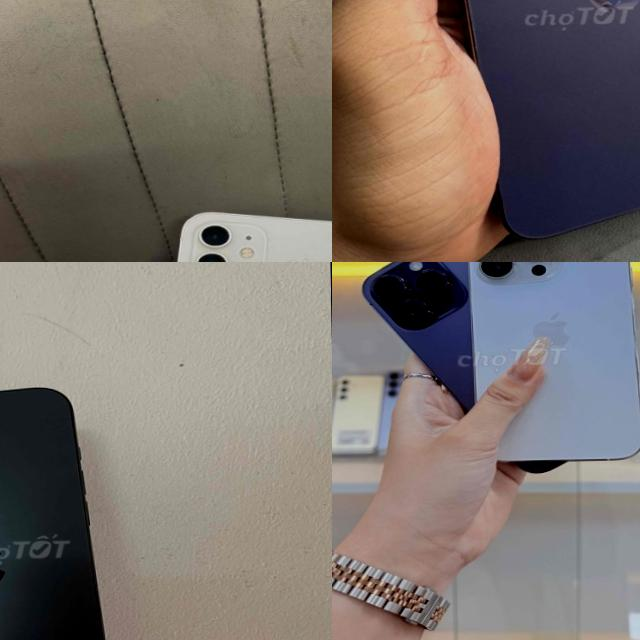gen_14: (411, 0, 640, 255), (464, 262, 640, 472)
gen_15: (0, 373, 125, 640)
